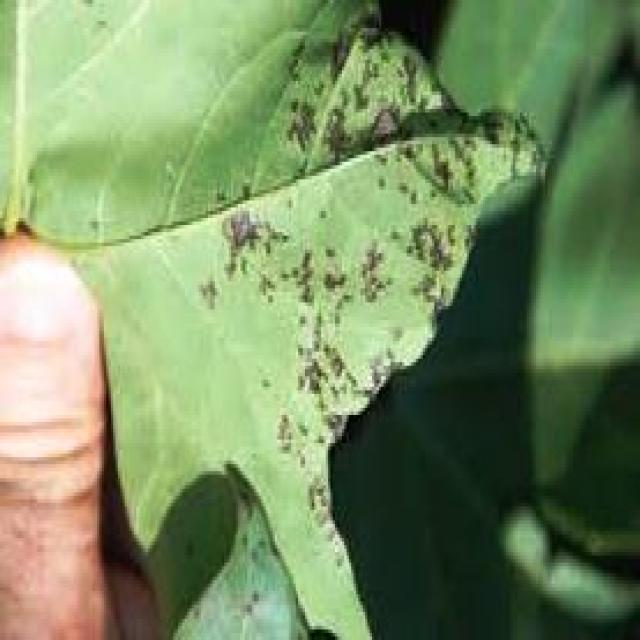Bacterial Blight: (258, 9, 502, 366)
